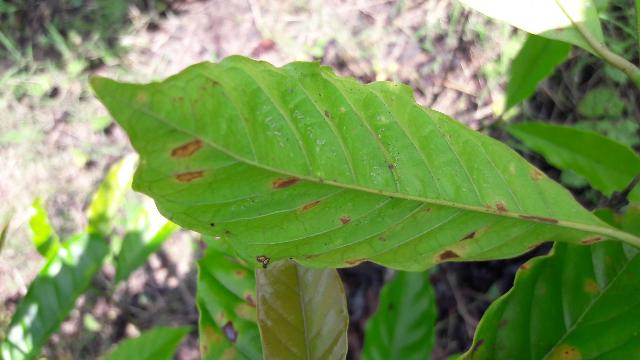rust_level_2: (92, 55, 598, 269)
